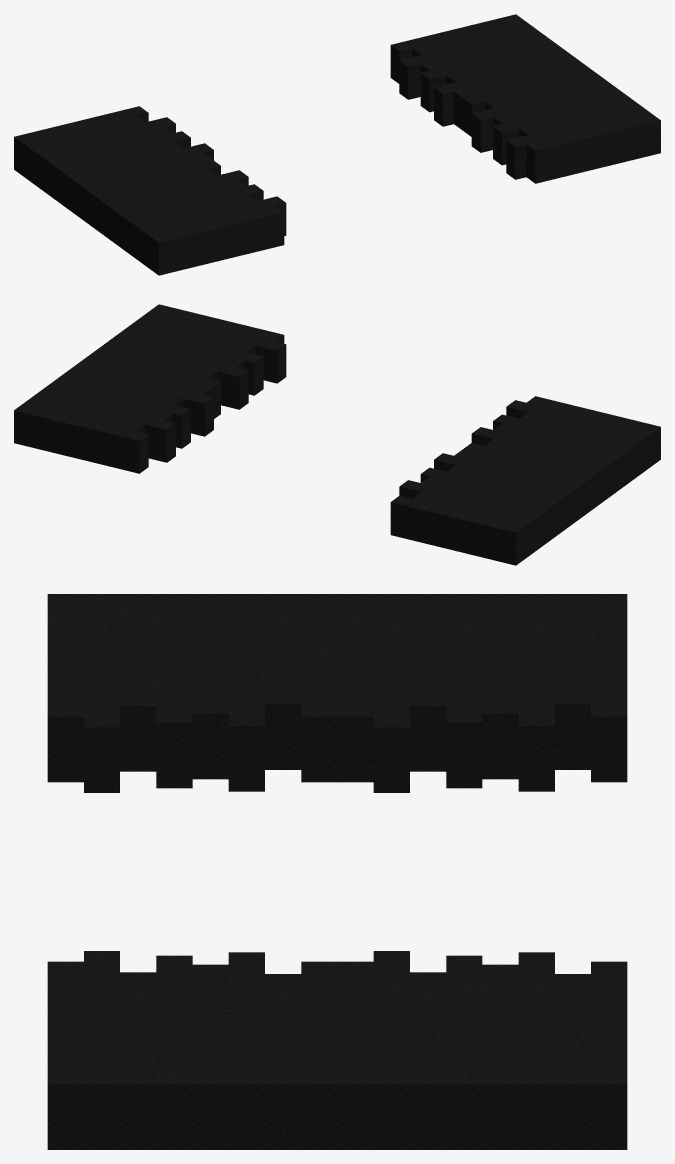
File: concrete_partition-heavy-collision.obj
3 views of the same model, one above another, from view 1: azimuth 30°, elevation 25°; view 2: azimuth 150°, elevation 25°; view 3: azimuth 270°, elevation 25° (orthographic). The views are drawn at different scales.
Visible parts, largest first — view 1: concrete_partition.Heavy.proxy31, concrete_partition.Heavy.proxy30, concrete_partition.Heavy.proxy21, concrete_partition.Heavy.proxy5, concrete_partition.Heavy.proxy29, concrete_partition.Heavy.proxy13, concrete_partition.Heavy.proxy9, concrete_partition.Heavy.proxy25, concrete_partition.Heavy.proxy28, concrete_partition.Heavy.proxy24, concrete_partition.Heavy.proxy8, concrete_partition.Heavy.proxy12 (+20 smaller); view 2: concrete_partition.Heavy.proxy1, concrete_partition.Heavy.proxy0, concrete_partition.Heavy.proxy21, concrete_partition.Heavy.proxy5, concrete_partition.Heavy.proxy29, concrete_partition.Heavy.proxy13, concrete_partition.Heavy.proxy25, concrete_partition.Heavy.proxy12, concrete_partition.Heavy.proxy9, concrete_partition.Heavy.proxy4, concrete_partition.Heavy.proxy20, concrete_partition.Heavy.proxy28 (+20 smaller); view 3: concrete_partition.Heavy.proxy12, concrete_partition.Heavy.proxy13, concrete_partition.Heavy.proxy4, concrete_partition.Heavy.proxy5, concrete_partition.Heavy.proxy20, concrete_partition.Heavy.proxy21, concrete_partition.Heavy.proxy24, concrete_partition.Heavy.proxy25, concrete_partition.Heavy.proxy8, concrete_partition.Heavy.proxy9, concrete_partition.Heavy.proxy28, concrete_partition.Heavy.proxy29 (+20 smaller).
Part boxes in pixels (<box>): concrete_partition.Heavy.proxy31: <box>526,114,660,183</box>; concrete_partition.Heavy.proxy30: <box>150,205,284,275</box>; concrete_partition.Heavy.proxy21: <box>471,80,615,152</box>; concrete_partition.Heavy.proxy5: <box>399,27,542,99</box>; concrete_partition.Heavy.proxy29: <box>506,107,651,179</box>; concrete_partition.Heavy.proxy13: <box>434,54,578,126</box>; concrete_partition.Heavy.proxy9: <box>420,41,560,112</box>; concrete_partition.Heavy.proxy25: <box>493,94,633,165</box>; concrete_partition.Heavy.proxy28: <box>140,196,286,268</box>; concrete_partition.Heavy.proxy24: <box>122,184,263,255</box>; concrete_partition.Heavy.proxy8: <box>50,131,190,202</box>; concrete_partition.Heavy.proxy12: <box>68,143,213,215</box>; concrete_partition.Heavy.proxy1: <box>14,404,148,473</box>; concrete_partition.Heavy.proxy0: <box>390,495,524,565</box>; concrete_partition.Heavy.proxy21: <box>105,337,248,409</box>; concrete_partition.Heavy.proxy5: <box>32,390,175,462</box>; concrete_partition.Heavy.proxy29: <box>141,311,286,383</box>; concrete_partition.Heavy.proxy13: <box>68,364,213,436</box>; concrete_partition.Heavy.proxy25: <box>123,324,263,395</box>; concrete_partition.Heavy.proxy12: <box>434,453,579,525</box>; concrete_partition.Heavy.proxy9: <box>50,377,190,448</box>; concrete_partition.Heavy.proxy4: <box>399,480,543,551</box>; concrete_partition.Heavy.proxy20: <box>471,427,615,498</box>; concrete_partition.Heavy.proxy28: <box>506,400,651,472</box>; concrete_partition.Heavy.proxy12: <box>373,594,409,792</box>; concrete_partition.Heavy.proxy13: <box>373,951,409,1149</box>; concrete_partition.Heavy.proxy4: <box>518,594,554,791</box>; concrete_partition.Heavy.proxy5: <box>518,952,554,1149</box>; concrete_partition.Heavy.proxy20: <box>228,594,264,791</box>; concrete_partition.Heavy.proxy21: <box>228,952,264,1149</box>; concrete_partition.Heavy.proxy24: <box>156,594,192,788</box>; concrete_partition.Heavy.proxy25: <box>156,955,192,1149</box>; concrete_partition.Heavy.proxy8: <box>446,594,482,788</box>; concrete_partition.Heavy.proxy9: <box>446,955,482,1149</box>; concrete_partition.Heavy.proxy28: <box>84,594,119,792</box>; concrete_partition.Heavy.proxy29: <box>84,951,119,1149</box>.
Bounding box in the file's own units: 16 × 1 × 8.
1 material, 1 textured.
